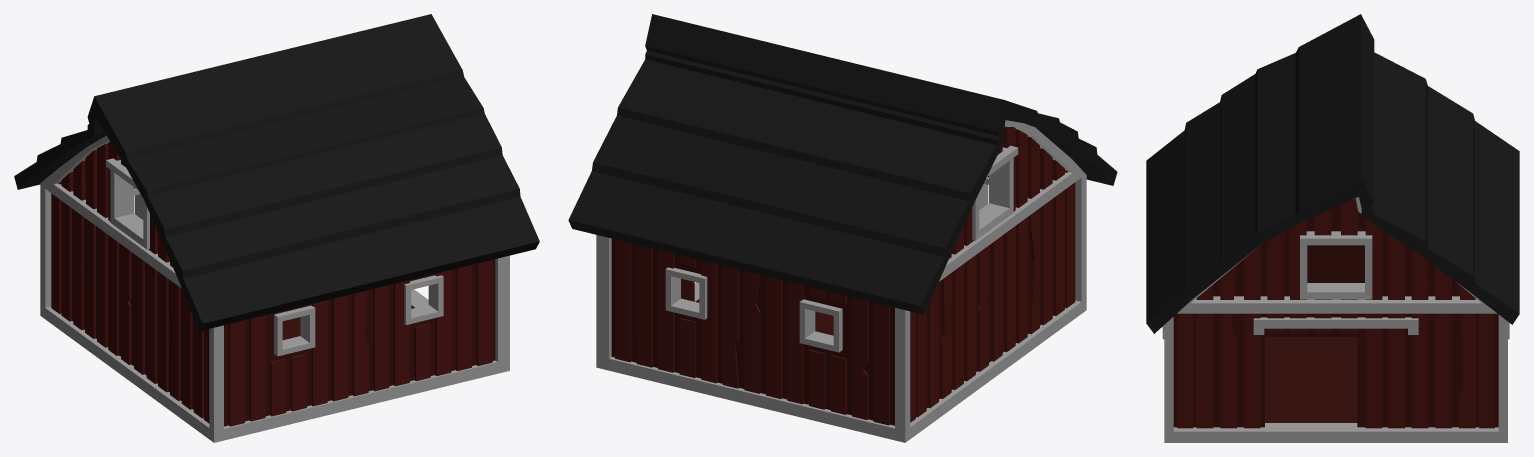
Rendered from Small_Barn.FBX.
3 renders of one model, left to right at view 1: azimuth 30°, elevation 25°; view 2: azimuth 150°, elevation 25°; view 3: azimuth 270°, elevation 25°, orthographic. The views are drawn at different scales.
Visible parts, largest first — view 1: Small_Barn; view 2: Small_Barn; view 3: Small_Barn.
Boxes of the visible parts, x1,y1,x2,y2 form: Small_Barn: [14, 14, 539, 442]; Small_Barn: [568, 14, 1117, 442]; Small_Barn: [1146, 14, 1519, 442].
Bounding box in the file's own units: 627 × 496 × 608.
